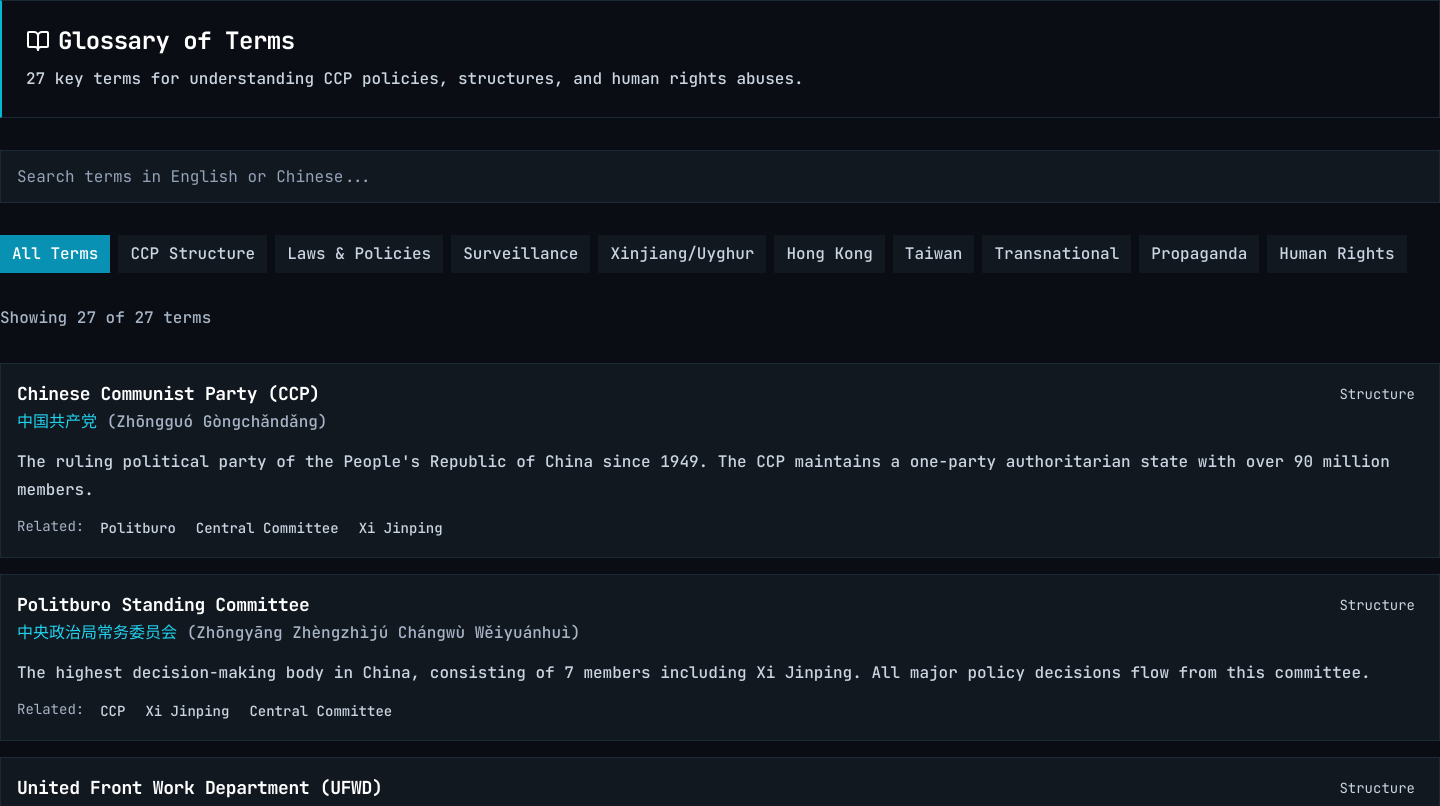
GlossaryTerms › shows no results message for bad search
The width and height of the screenshot is (1440, 806).
Type "zzzzzznotfound" into the field with placeholder "Search terms in English or Chinese...".
click(720, 177); type("zzzzzznotfound")  # box [0,150,1439,203]
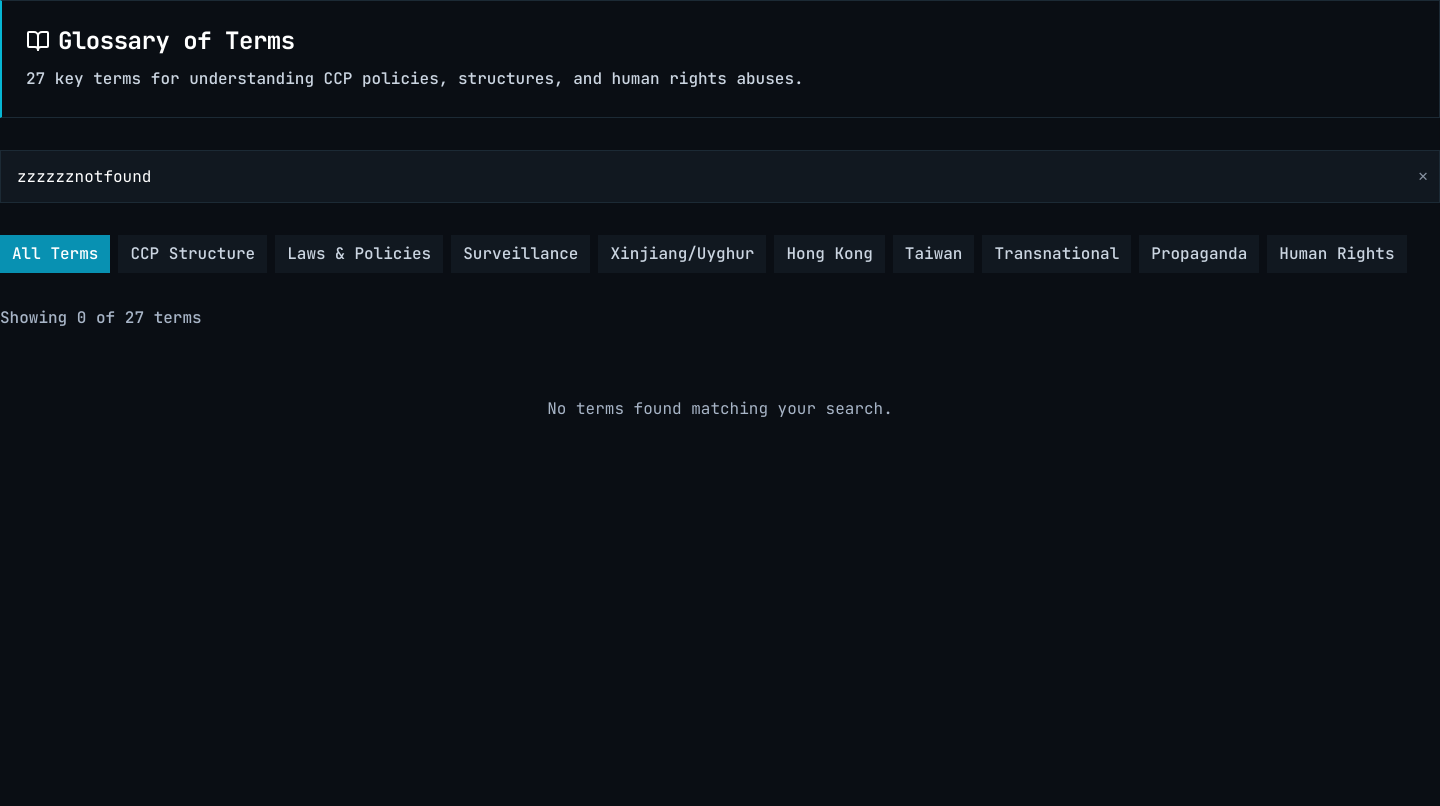
Expected: the text "No terms found matching your search." is shown, [547,398,893,419]
